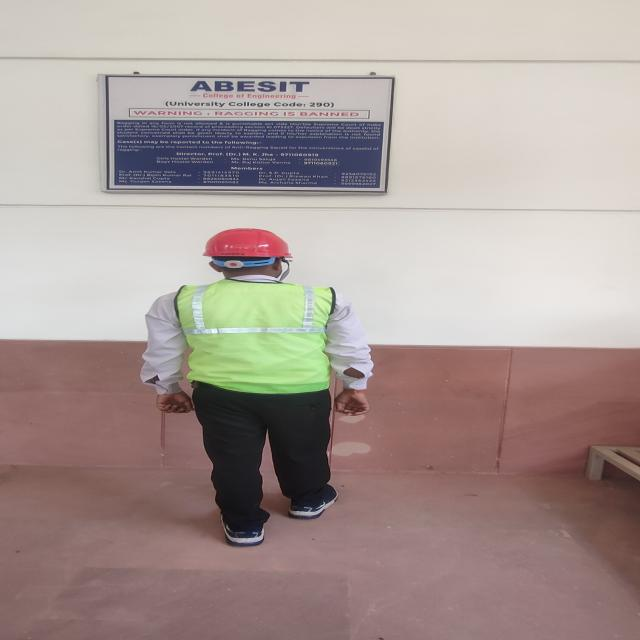safe: (145, 228, 371, 546)
